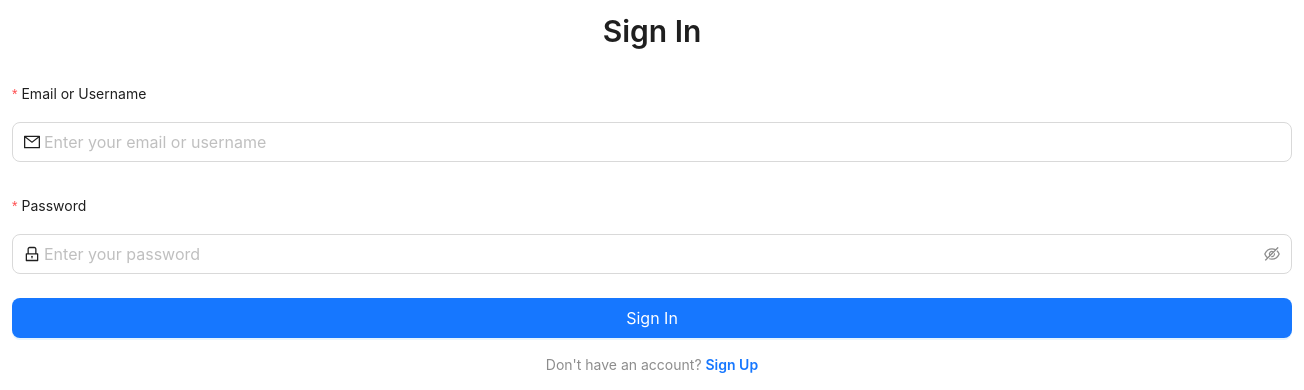
Scenario: LoginPage › shows validation error when password is less than 6 characters
The width and height of the screenshot is (1304, 390).
In the field with placeholder "Enter your email or username": (662, 142) x1=44 y1=130 x2=1280 y2=154, type "test@example.com"
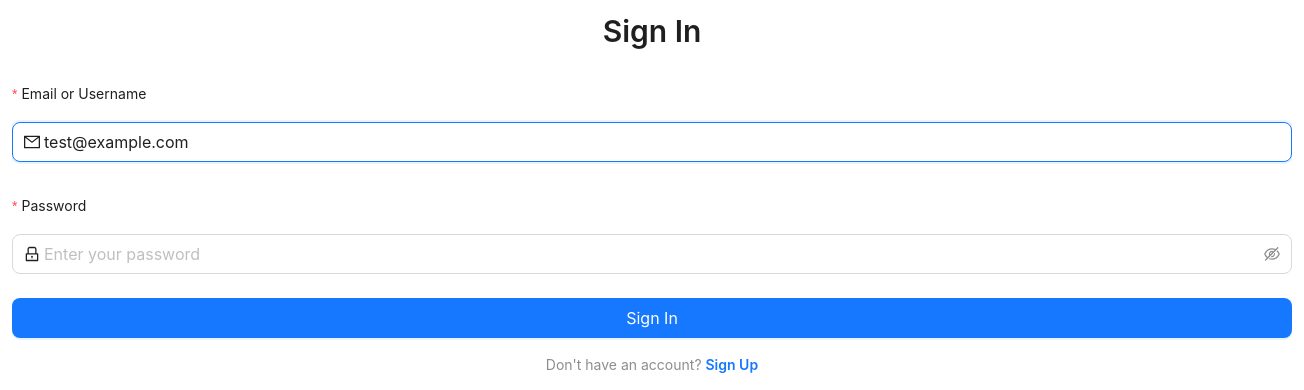
In the password field with placeholder "Enter your password": (652, 254) x1=44 y1=242 x2=1260 y2=266, type "12345"
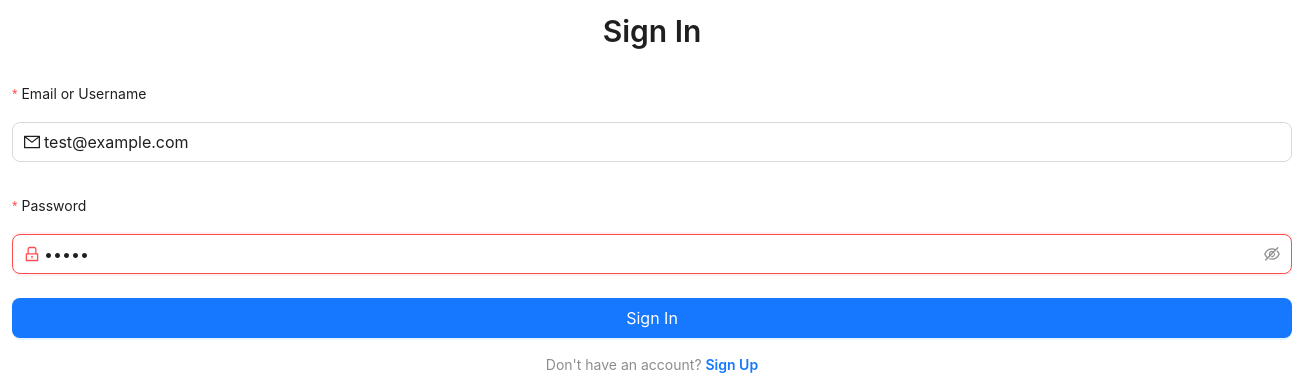
Click the button "Sign In": (652, 318) x1=12 y1=298 x2=1292 y2=338
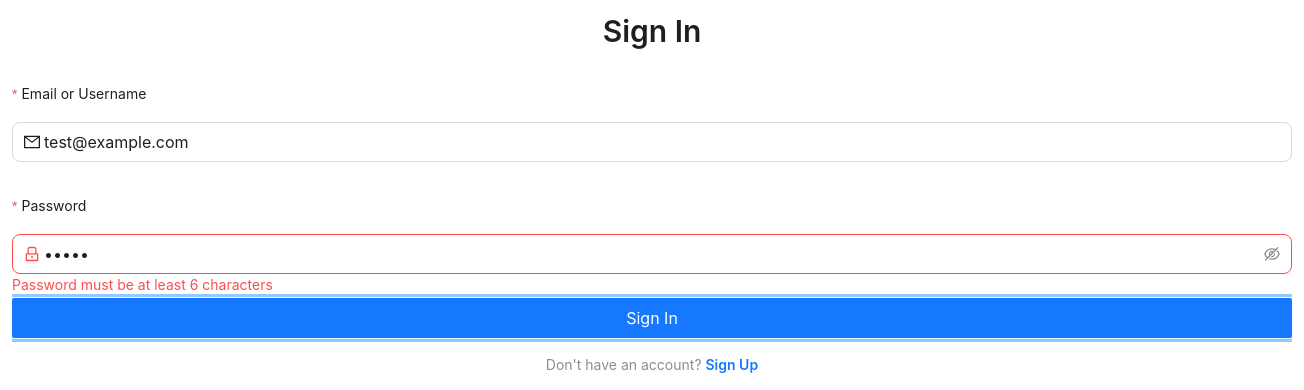
Expected: the text "Password must be at least 6 characters" is shown, x1=12 y1=276 x2=273 y2=293
